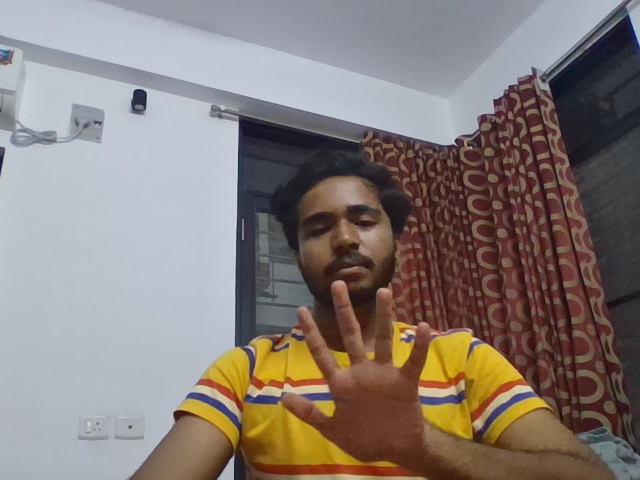Hello: (271, 274, 464, 471)
